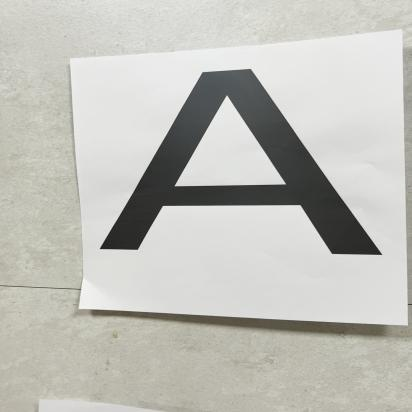seat: (73, 65, 412, 284)
